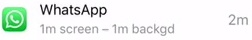name: (36, 2, 111, 20)
time: (39, 22, 58, 36), (111, 23, 130, 37)
